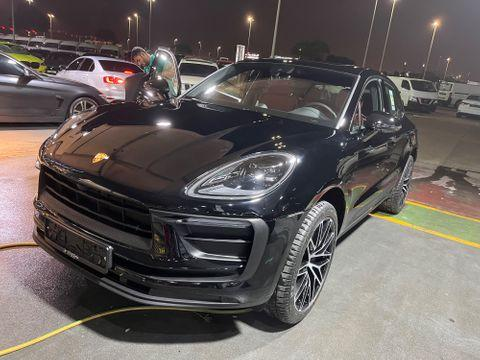porsche: (90, 150, 110, 165)
